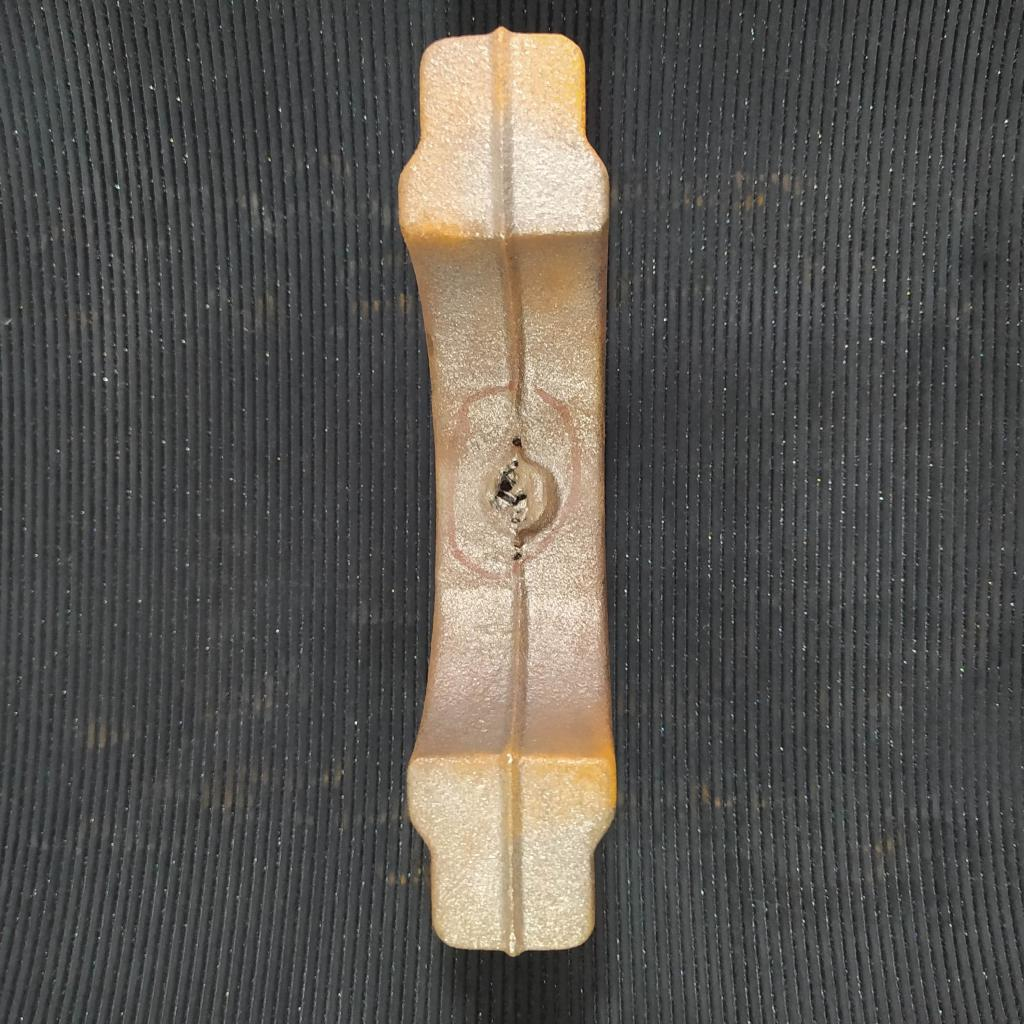buraco: (497, 459, 531, 528), (510, 435, 525, 454), (512, 550, 525, 565)
